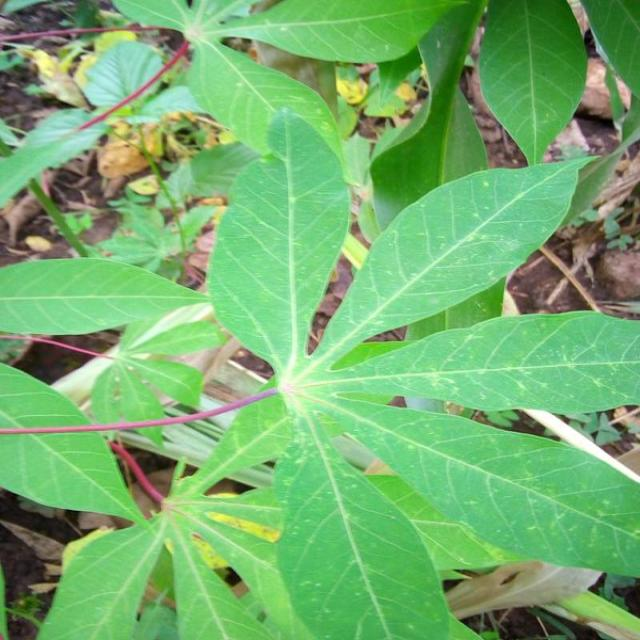cassava leaf: (1, 1, 638, 637), (307, 152, 598, 372), (205, 105, 350, 378)
